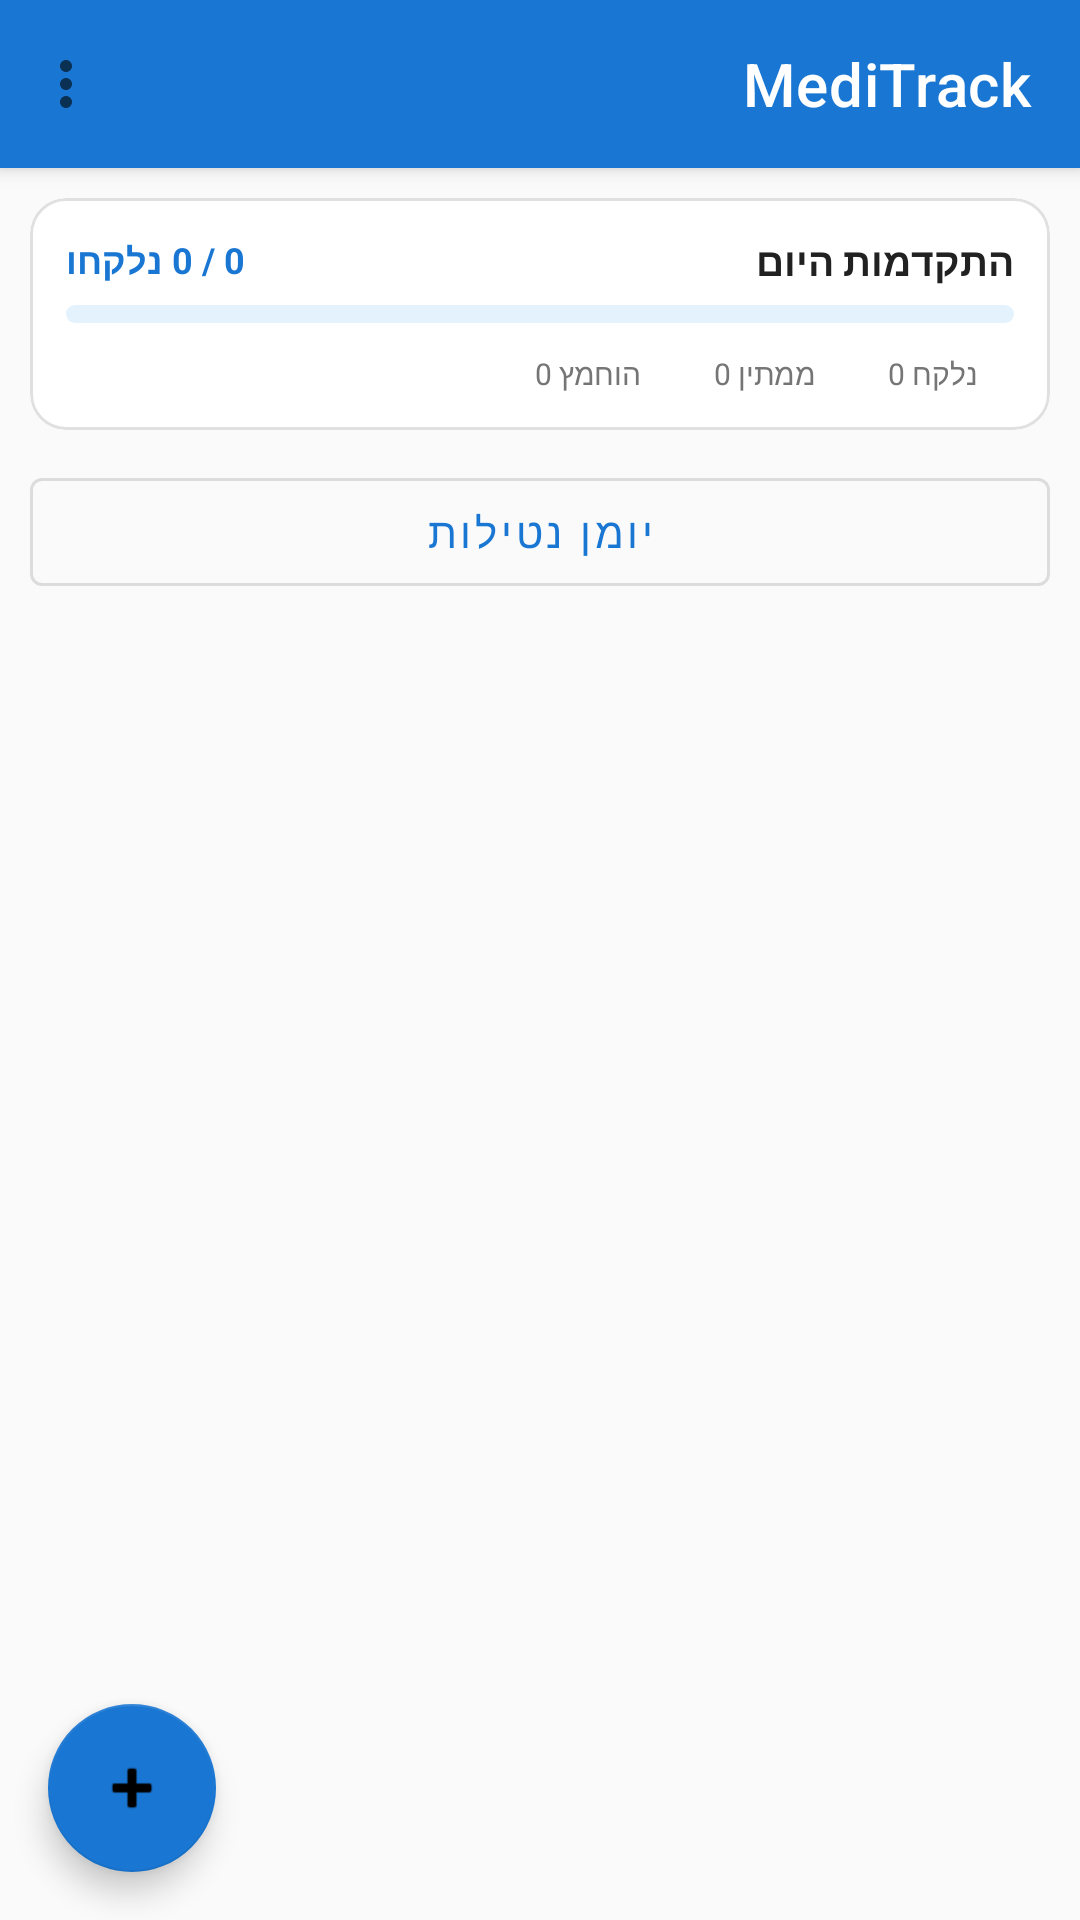

Icons on this 1080px x 1920px Android screen, each with the point to tap as [x,y]:
add: [132,1788]
